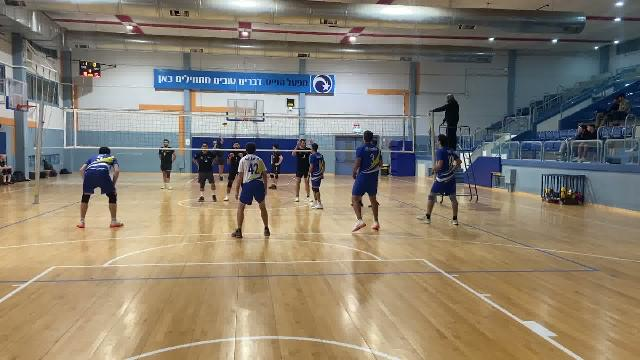ball: (220, 119, 231, 127)
